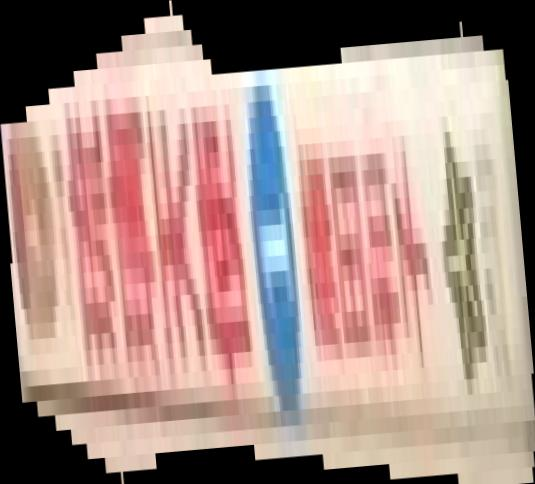flat: (1, 1, 535, 484)
